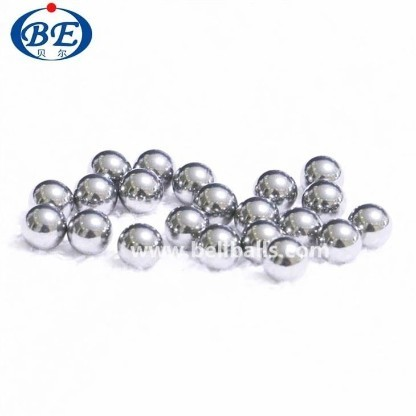ironball: (20, 202, 66, 250), (194, 222, 240, 270), (116, 222, 162, 269), (66, 208, 111, 255), (262, 235, 307, 282), (164, 204, 209, 250), (117, 167, 162, 213), (347, 202, 391, 249), (317, 217, 361, 264), (253, 168, 297, 213), (192, 181, 237, 225), (239, 218, 281, 264), (72, 172, 117, 214), (300, 179, 344, 221), (171, 161, 213, 204), (278, 206, 321, 247), (233, 195, 279, 233), (132, 148, 173, 189), (31, 178, 73, 218), (301, 154, 343, 188), (90, 149, 131, 183)
